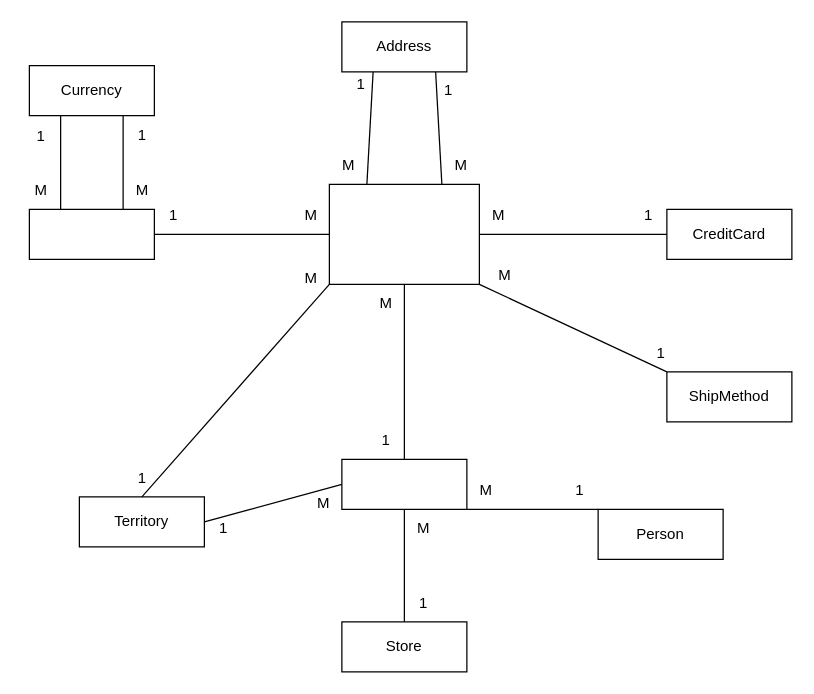
Some shapes in this 814 by 694 pixel diagram are drawn without their labels. Each missing label, with the centre of its shape:
"CurrenyRate" belongs at point (91, 233).
"Customer" belongs at point (404, 483).
"SalesOrderHeader" belongs at point (403, 233).
